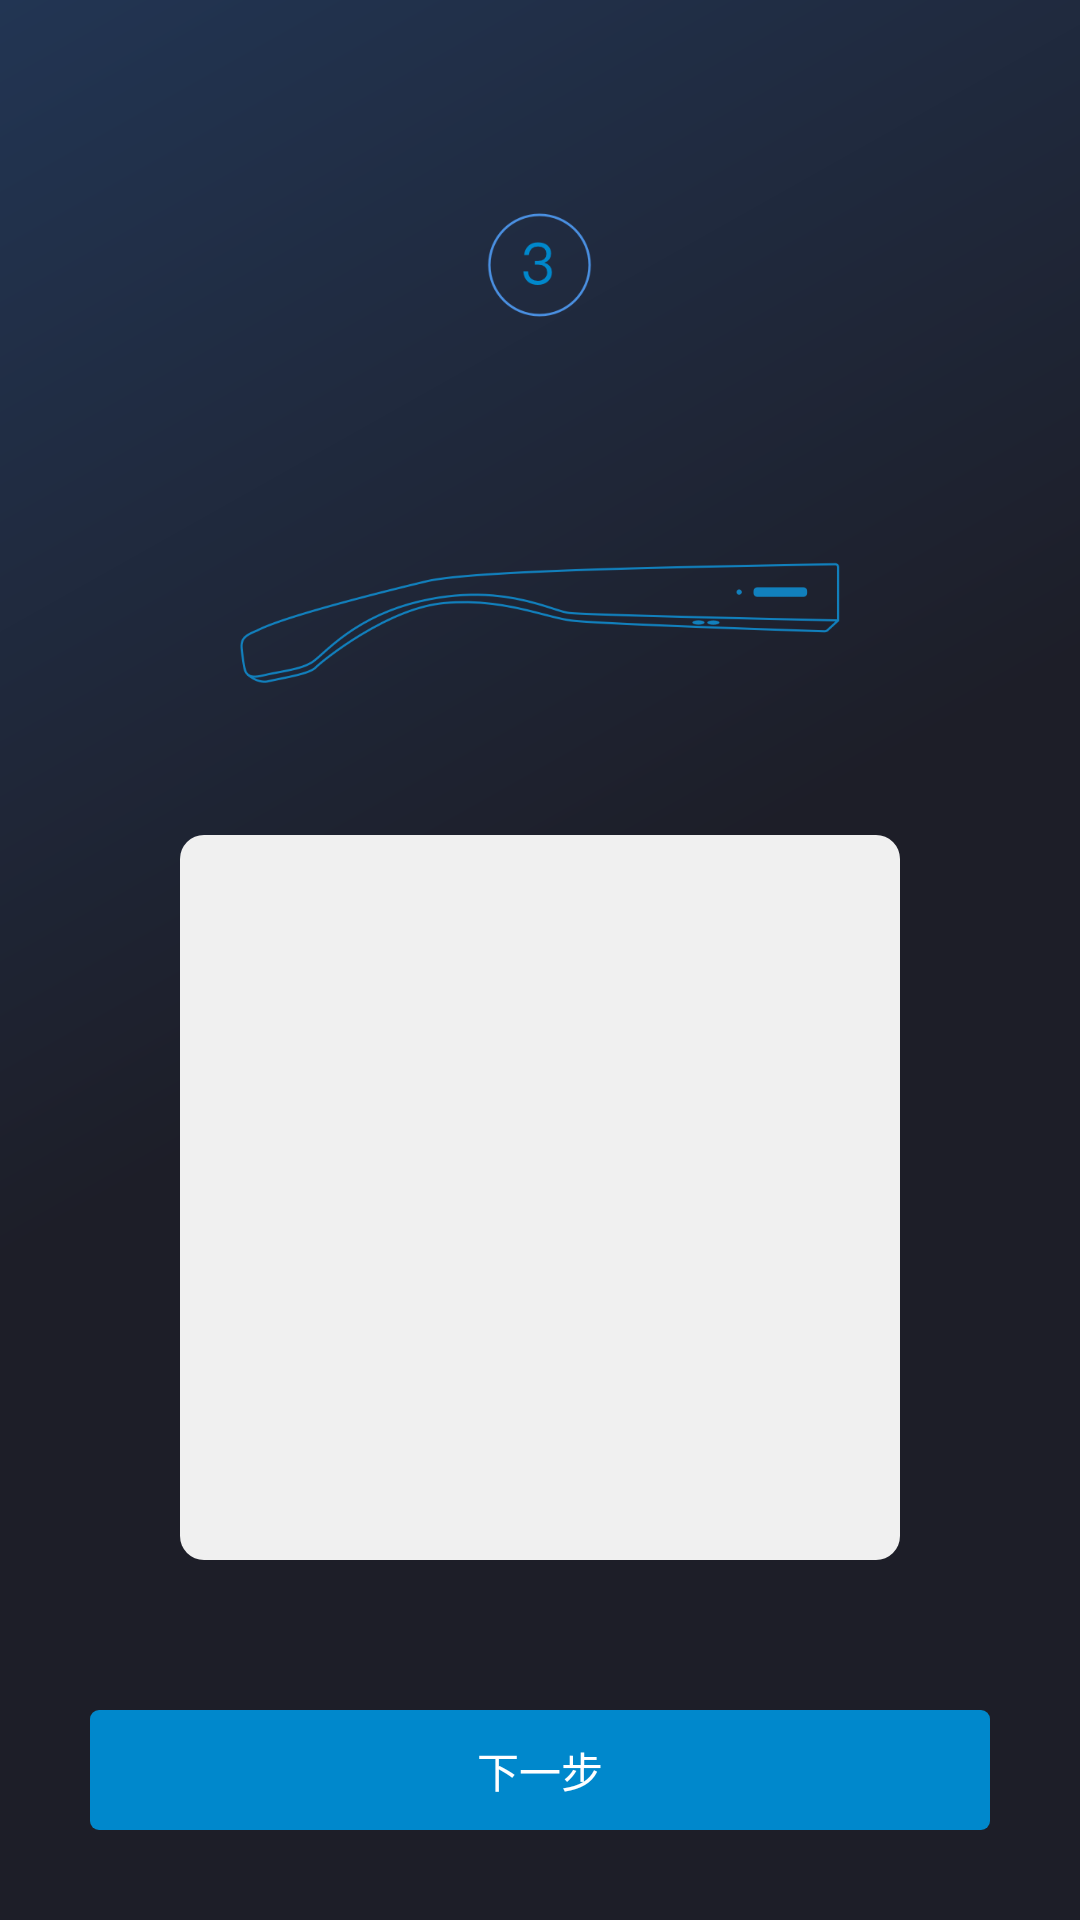

Screen size 1080w x 1920h. Icon name, then its center in pixels as point (x, y):
guide num: point (539, 265)
